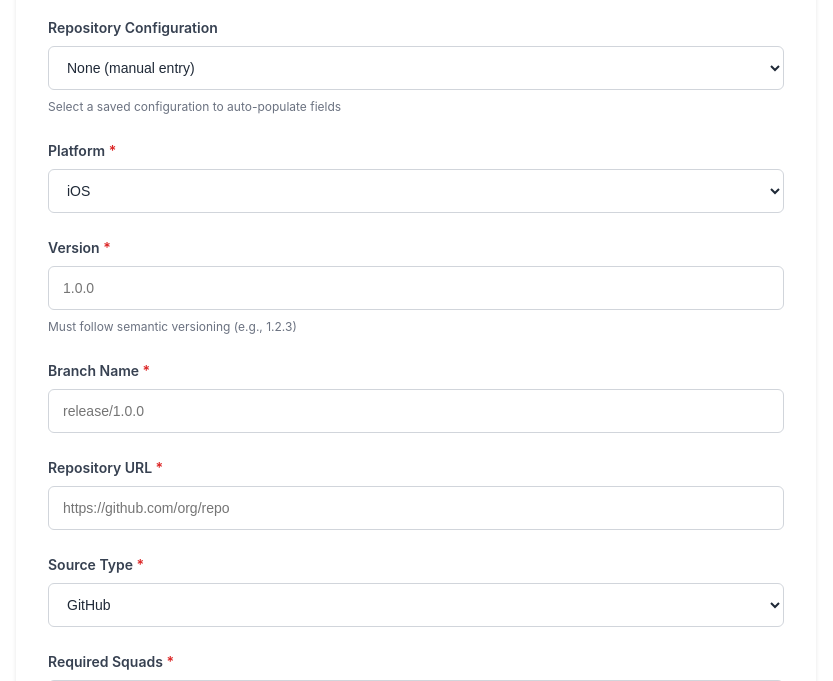
Test: CreateReleaseForm › config integration › resets fields when "None" is selected after a config
The width and height of the screenshot is (833, 681).
// First select a config
Select "My App Config" in the dropdown labelled "Repository Configuration": [416, 68] box x1=48 y1=46 x2=784 y2=90
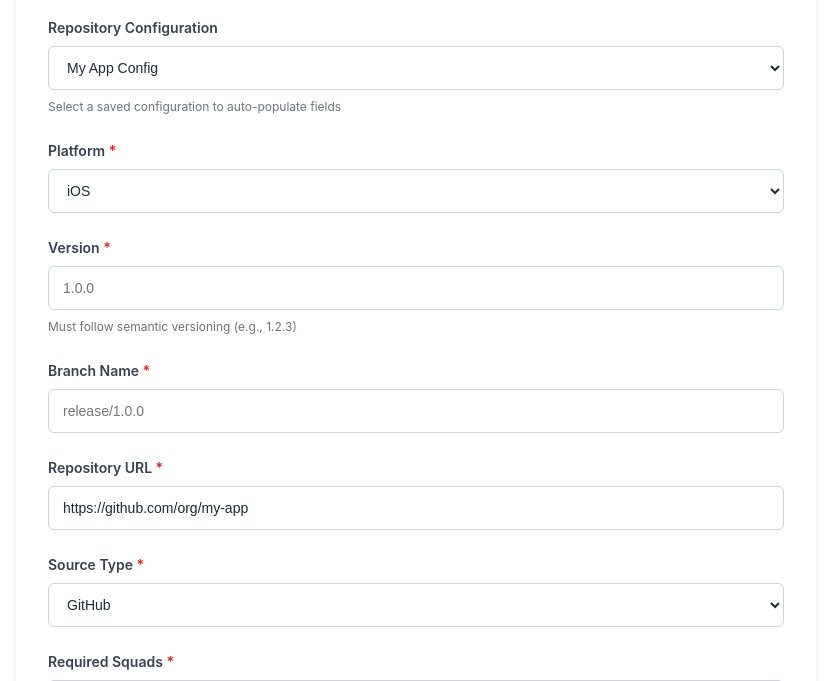
Result: the field labelled "Repository URL *" holds "https://github.com/org/my-app" at x1=48 y1=486 x2=784 y2=530
// Then select "None"
Select "None (manual entry)" in the dropdown labelled "Repository Configuration": [416, 68] box x1=48 y1=46 x2=784 y2=90
(page scrolled)
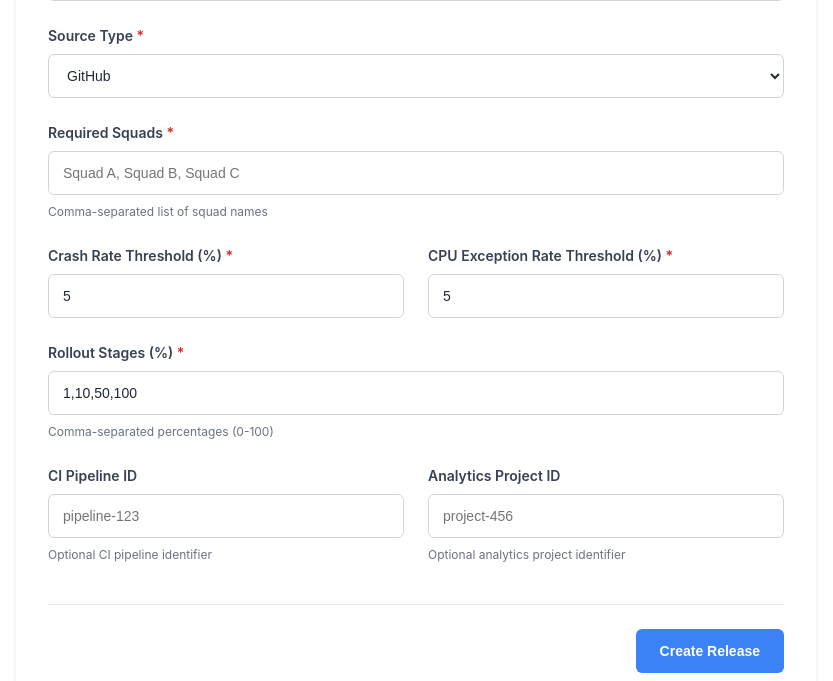
Result: the field labelled "Required Squads *" is empty at x1=48 y1=151 x2=784 y2=195
Result: the number field labelled "Crash Rate Threshold (%) *" holds "5" at x1=48 y1=274 x2=404 y2=318
Result: the number field labelled "CPU Exception Rate Threshold (%) *" holds "5" at x1=428 y1=274 x2=784 y2=318
